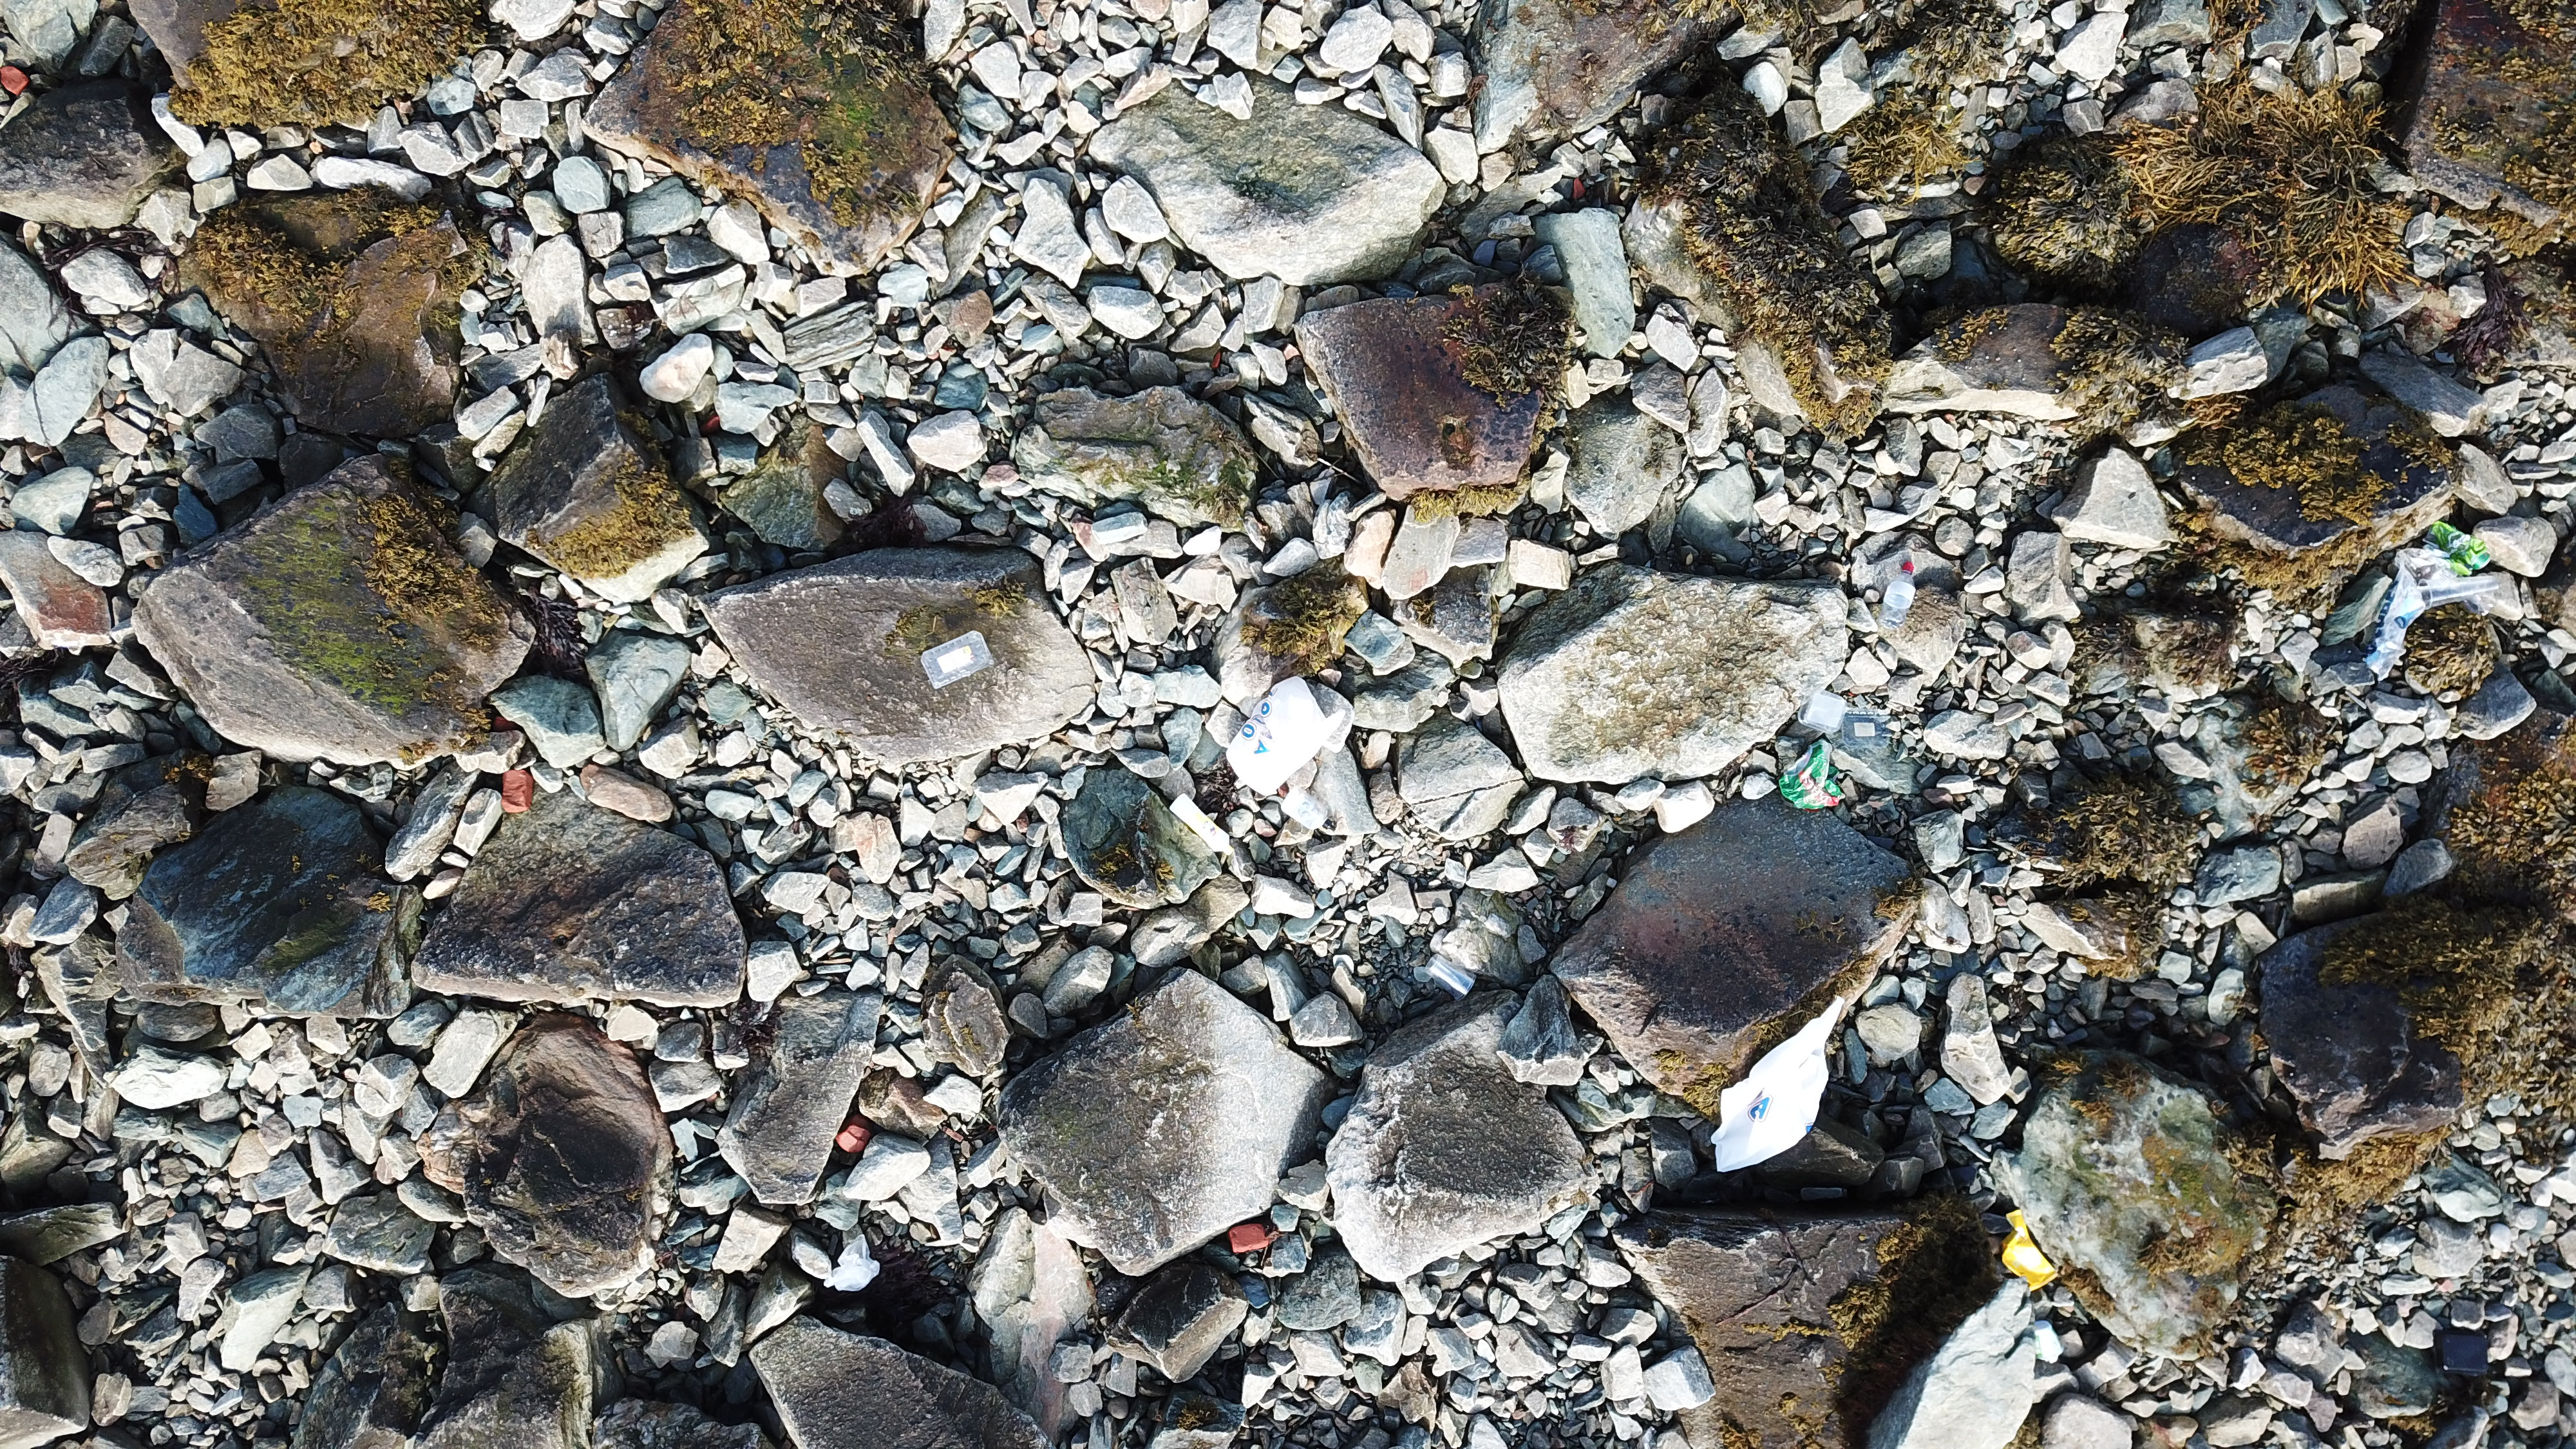Can: (2473, 547, 2491, 570)
Plastic: (1709, 994, 1847, 1175), (1226, 676, 1346, 798), (2365, 563, 2426, 681), (2001, 1212, 2061, 1295), (1778, 740, 1844, 810), (922, 630, 996, 692), (1169, 793, 1237, 858), (824, 1235, 883, 1293), (2426, 522, 2488, 577), (2426, 571, 2498, 617), (2433, 1329, 2489, 1376), (1840, 708, 1891, 754), (1426, 954, 1477, 1000), (1798, 690, 1847, 734), (2394, 547, 2459, 579)
PlasticBottle: (1881, 561, 1918, 632)
